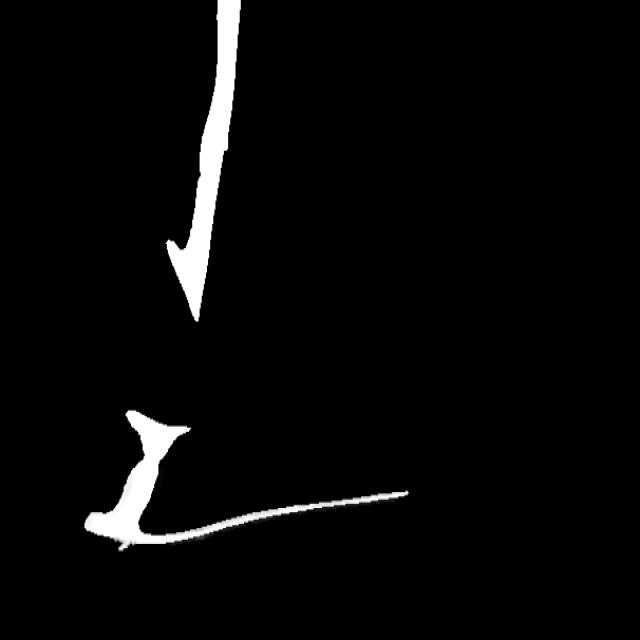sup_pli: (114, 526, 136, 561)
